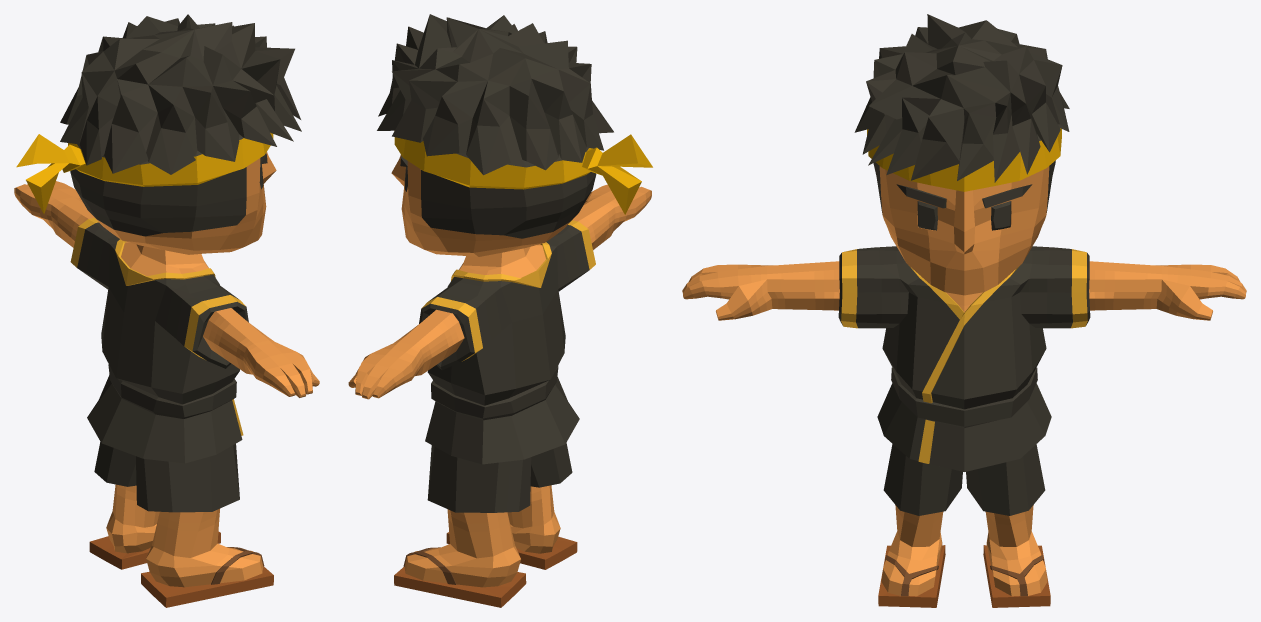
Rendered from kaitoooooo.fbx.
3 renders of one model, left to right at view 1: azimuth 30°, elevation 25°; view 2: azimuth 150°, elevation 25°; view 3: azimuth 270°, elevation 25°, orthographic.
Parts seen in each view (by area): view 1: Cuerpo; view 2: Cuerpo; view 3: Cuerpo.
Boxes of the visible parts, <box> form: Cuerpo: <box>14,14,319,607</box>; Cuerpo: <box>348,14,652,607</box>; Cuerpo: <box>682,14,1246,607</box>.
Bounding box in the file's own units: 147 × 283 × 267.
